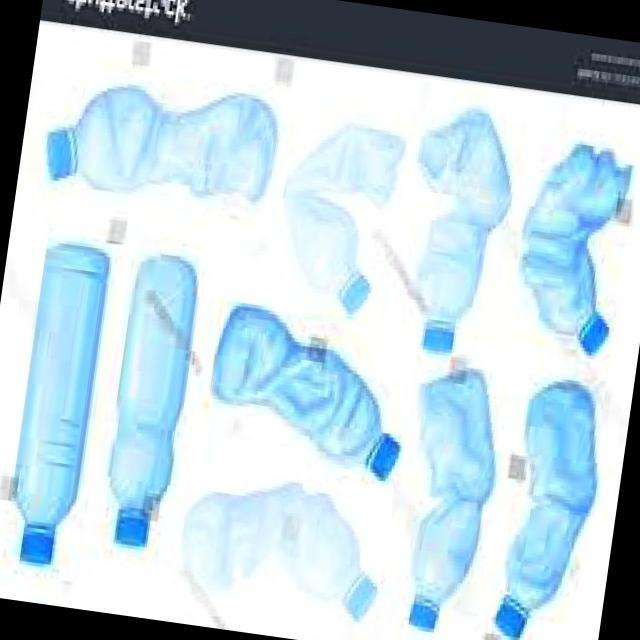defected: (23, 42, 296, 246), (198, 298, 418, 486), (165, 460, 394, 638), (483, 366, 612, 640), (392, 354, 514, 633), (394, 105, 525, 363), (506, 134, 639, 360), (269, 111, 412, 321)
good: (0, 230, 124, 584), (88, 235, 210, 561)
